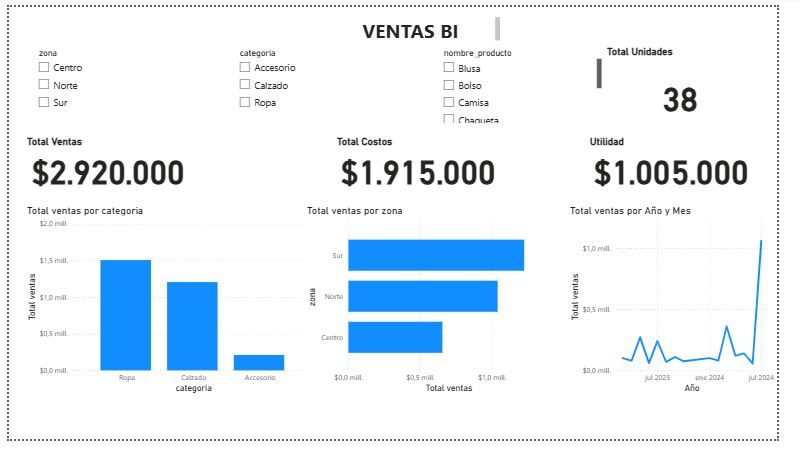

This screenshot's page, from the dashboard's own definition file:
{"tool":"powerbi","page":{"name":"Página 1","canvas":[1280,720],"ordinal":0},"visuals":[{"type":"card","title":"Total Ventas","fields":{"Values":["Tabla_medidas.Total ventas"]},"box":[25,213.1,280.7,92.6],"z":0},{"type":"card","title":"Total Costos","fields":{"Values":["Tabla_medidas.Total Costos"]},"box":[542.2,213.1,280.7,92.6],"z":1},{"type":"card","title":"Utilidad","fields":{"Values":["Tabla_medidas.Utilidad"]},"box":[963.9,213.1,280.7,92.6],"z":2},{"type":"card","title":"Total Unidades","fields":{"Values":["Tabla_medidas.Total Unidades"]},"box":[991.8,63.2,254.2,149.9],"z":3},{"type":"clusteredColumnChart","fields":{"Category":["Ventas.categoria"],"Y":["Tabla_medidas.Total ventas"]},"box":[25,327.7,487.8,320.3],"z":4},{"type":"clusteredBarChart","fields":{"Category":["Ventas.zona"],"Y":["Tabla_medidas.Total ventas"]},"box":[492.2,327.7,437.9,320.3],"z":5},{"type":"lineChart","fields":{"Y":["Tabla_medidas.Total ventas"],"Category":["Ventas.fecha.Variación.Jerarquía de fechas.Año","Ventas.fecha.Variación.Jerarquía de fechas.Mes"]},"box":[930.1,327.7,349.7,320.3],"z":6},{"type":"slicer","fields":{"Values":["Ventas.zona"]},"box":[36.7,63.2,268.9,149.9],"z":7},{"type":"slicer","fields":{"Values":["Ventas.categoria"]},"box":[371.8,63.2,280.7,149.9],"z":8},{"type":"slicer","fields":{"Values":["Ventas.nombre_producto"]},"box":[711.2,63.2,280.7,135.2],"z":9},{"type":"textbox","box":[523.1,11.8,299.8,51.4],"z":10}]}

Visuals, with their boxes in screenshot pixels (x1, y1, x2, y2), scaled from the page's 1280x720 canvas onto the 800x459 screenshot:
"Total Ventas" card: 16,136,191,195
"Total Costos" card: 339,136,514,195
"Utilidad" card: 602,136,778,195
"Total Unidades" card: 620,40,779,136
clusteredColumnChart - Ventas.categoria x Tabla_medidas.Total ventas: 16,209,320,413
clusteredBarChart - Ventas.zona x Tabla_medidas.Total ventas: 308,209,581,413
lineChart - Tabla_medidas.Total ventas x Ventas.fecha.Variación.Jerarquía de fechas.Año: 581,209,799,413
slicer - Ventas.zona: 23,40,191,136
slicer - Ventas.categoria: 232,40,408,136
slicer - Ventas.nombre_producto: 444,40,620,126
textbox: 327,8,514,40
